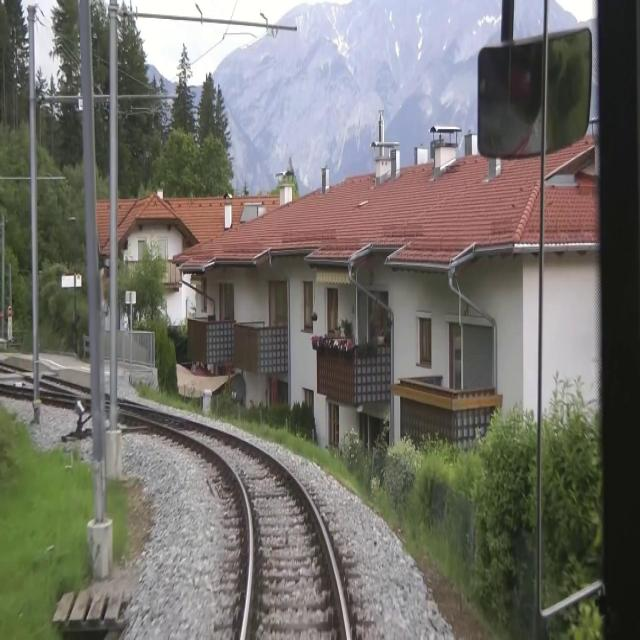rail-track: (139, 411, 345, 639)
